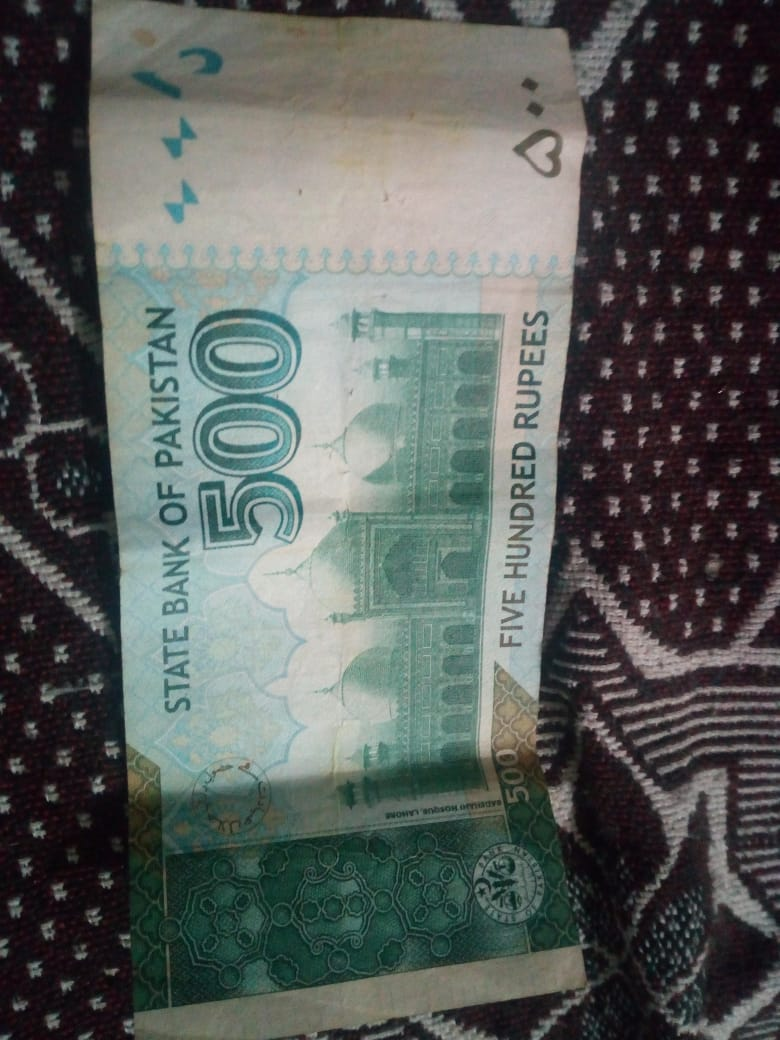500 rupee: (78, 7, 611, 1025)
